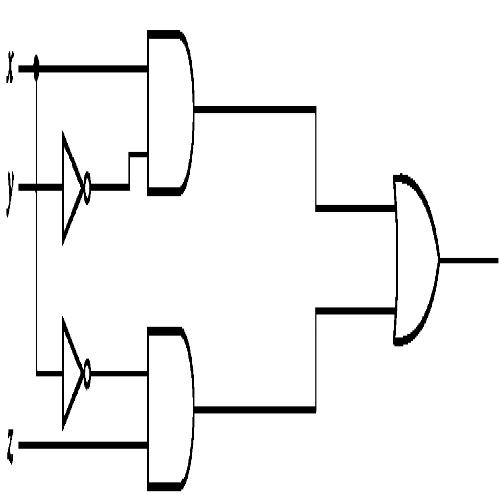and: (143, 10, 198, 212), (143, 316, 198, 497)
not: (58, 113, 94, 258), (58, 304, 92, 435)
or: (390, 157, 443, 357)
